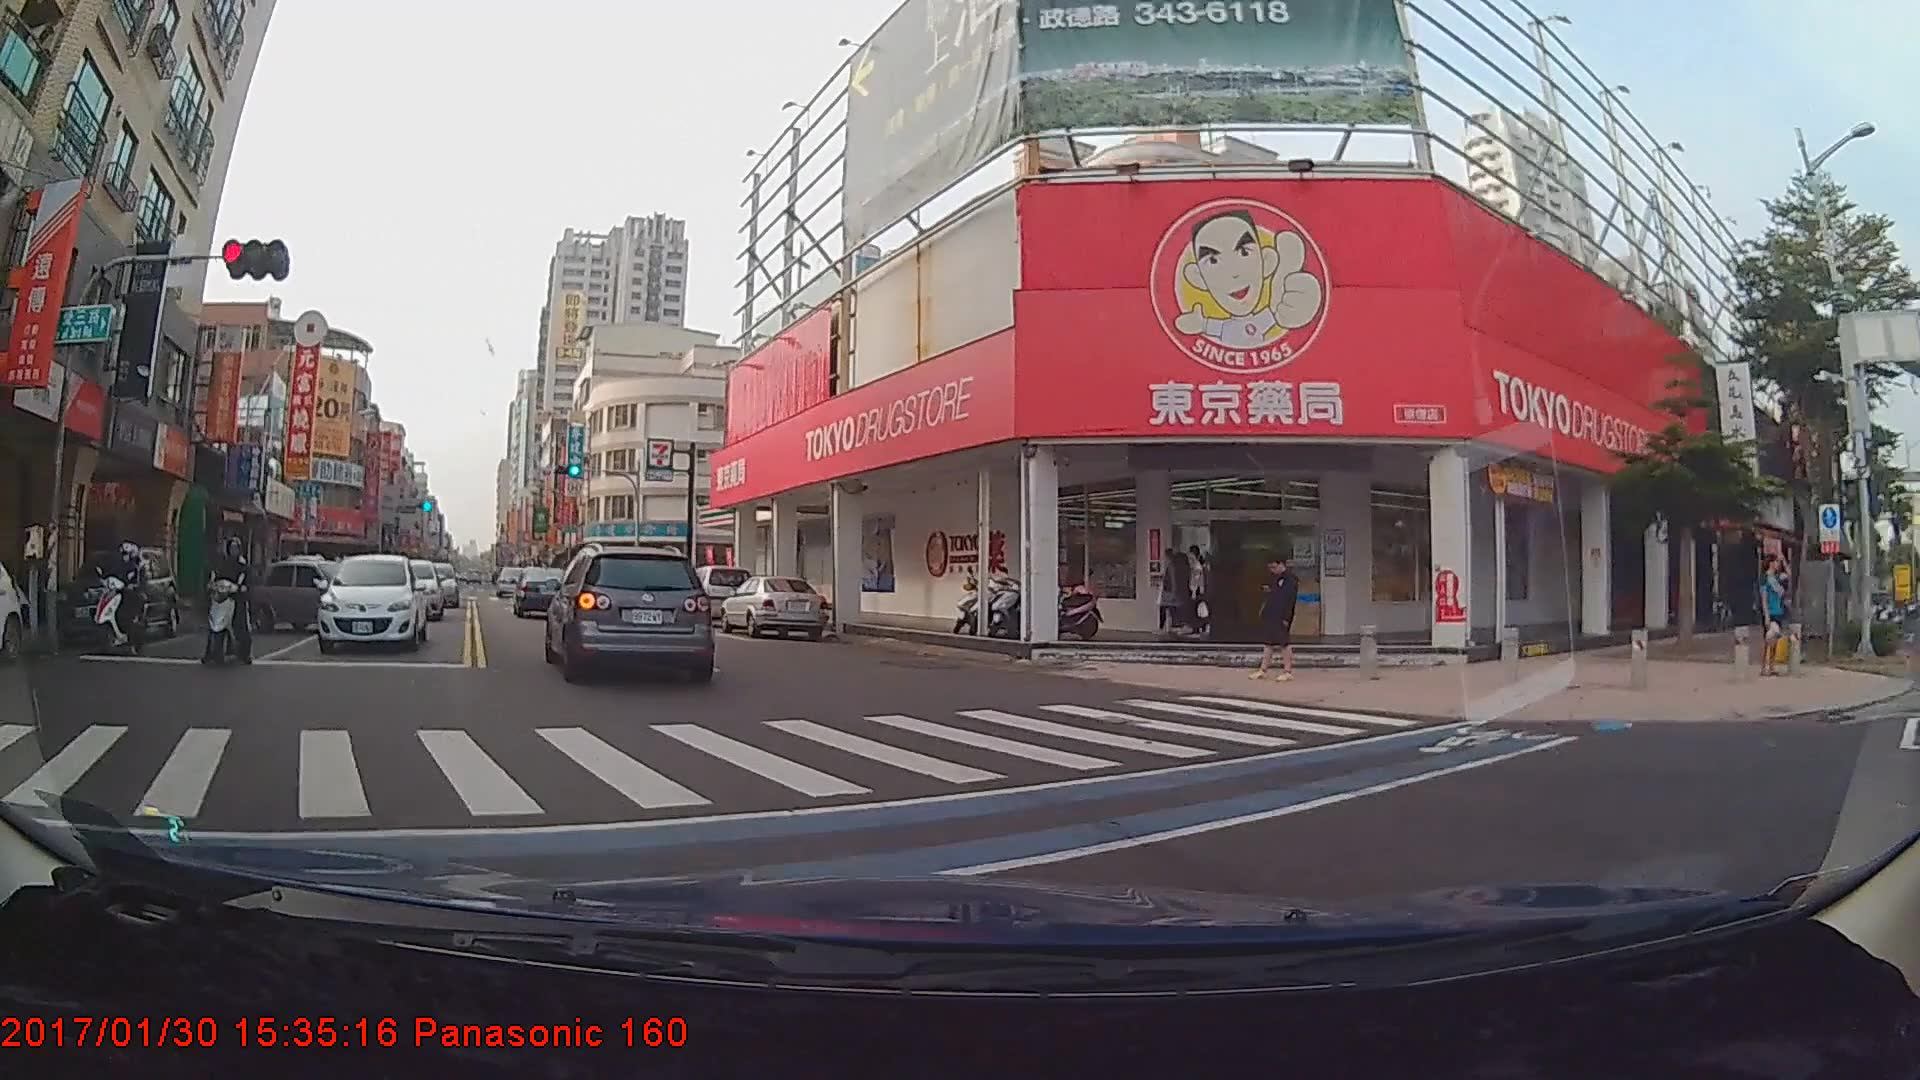pedestrian: (1250, 549, 1300, 681), (1754, 555, 1795, 684), (1154, 549, 1195, 636), (1184, 545, 1214, 640)
rider: (79, 551, 160, 666), (199, 537, 263, 668)
vehicle: (547, 547, 711, 682), (47, 547, 180, 655), (316, 562, 425, 661), (252, 559, 370, 631), (719, 573, 827, 640), (677, 564, 756, 627), (373, 556, 440, 621), (409, 561, 457, 610), (512, 569, 559, 618)
